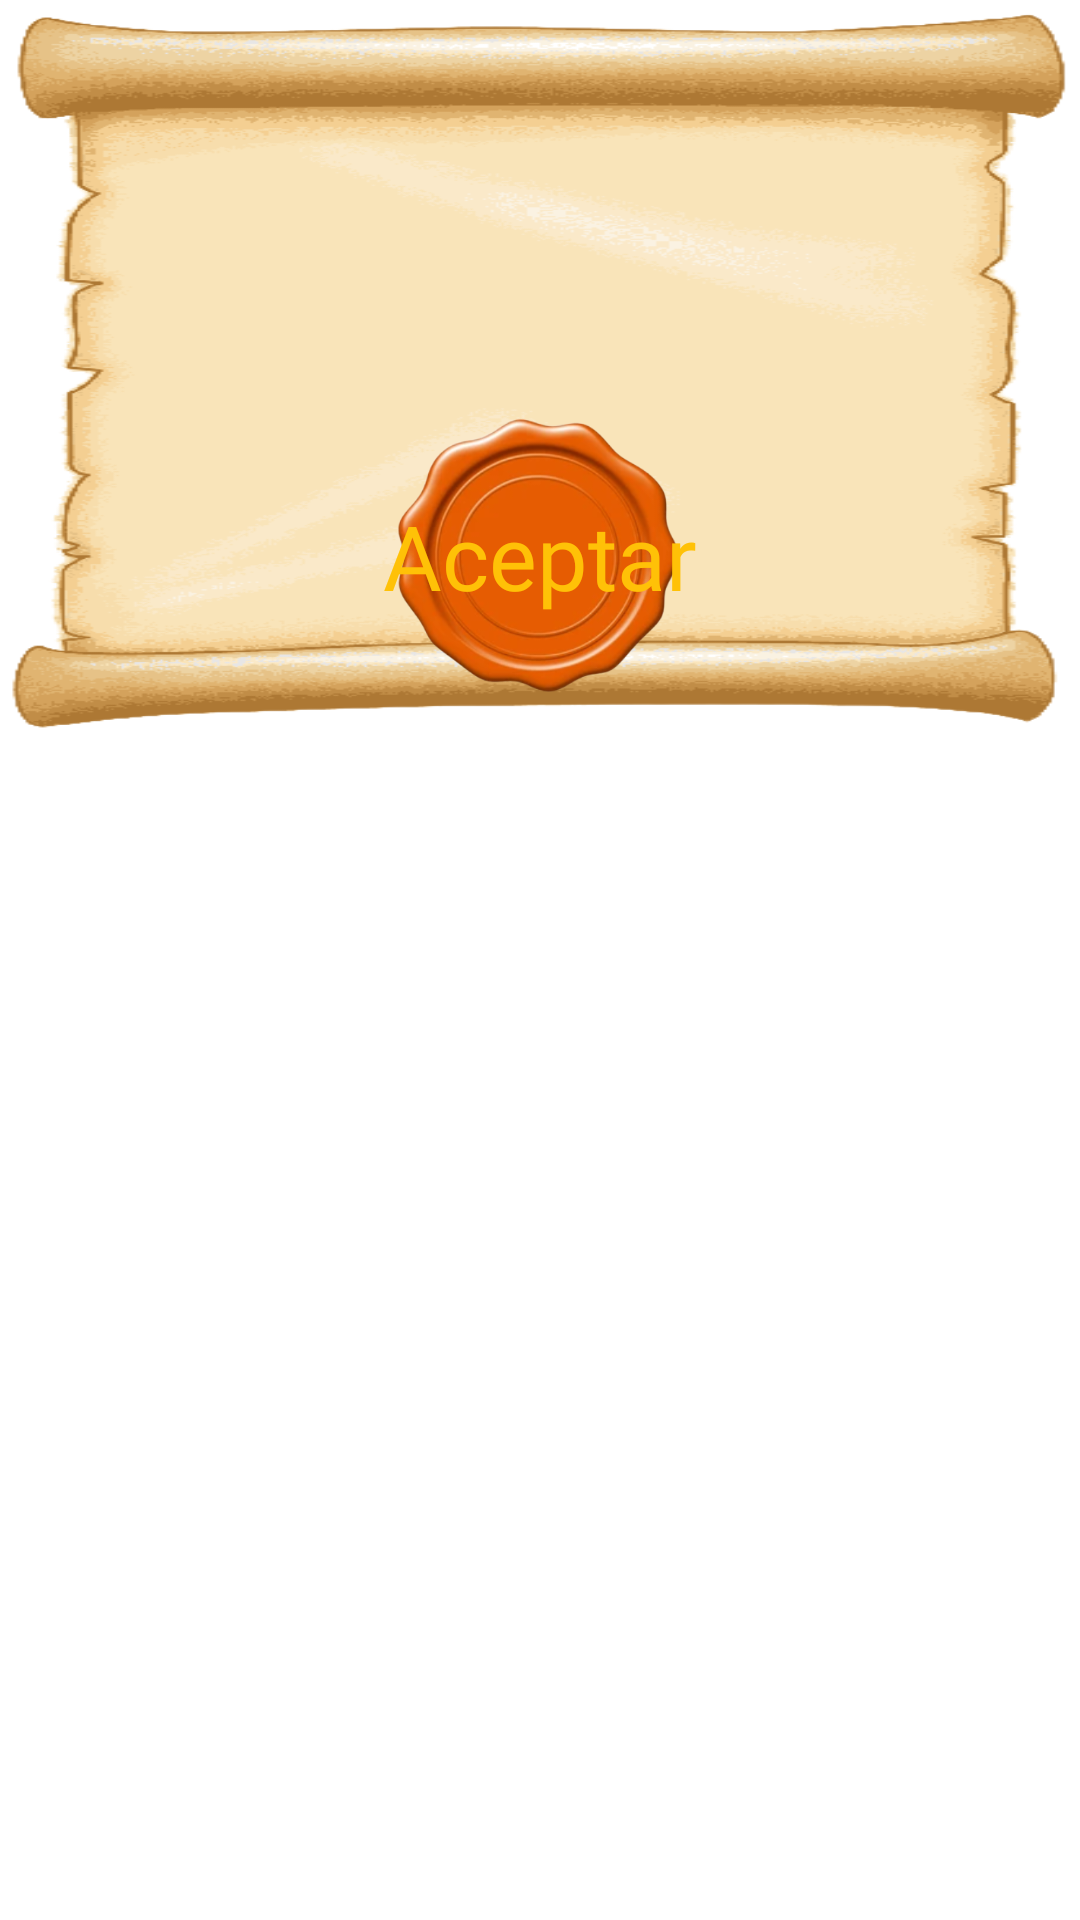

Named icons in this screenshot (1080px×1920px) and their bounding boxes, (x1, y1, x2, y2):
sello: (361, 419, 718, 704)
